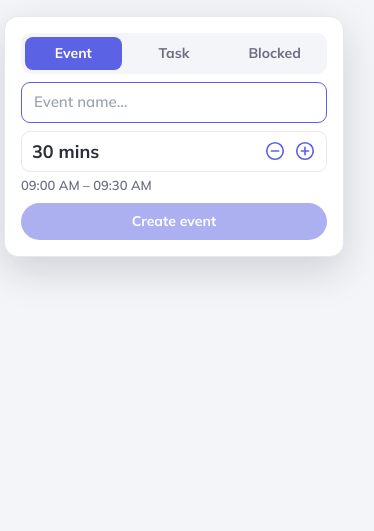
CreatePopover › task mode: existing-task selection hides due/category/after fields
This screenshot has width=374, height=531.
Click the button with test id "mode-task" at (174, 54), box left=126, top=37, right=222, bottom=70
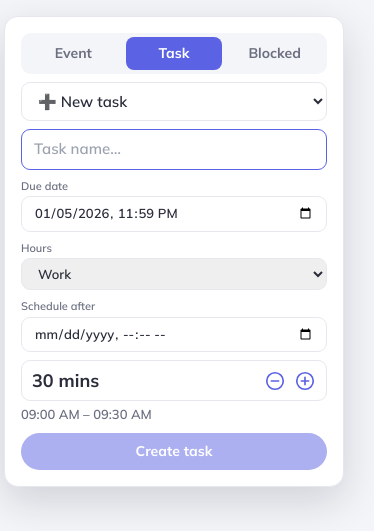
Expected: the field with test id "create-due" is shown, left=21, top=196, right=327, bottom=232
Note: select existing task
Select "Some task" in the dropdown with test id "task-select" at (174, 102), box left=21, top=82, right=327, bottom=121
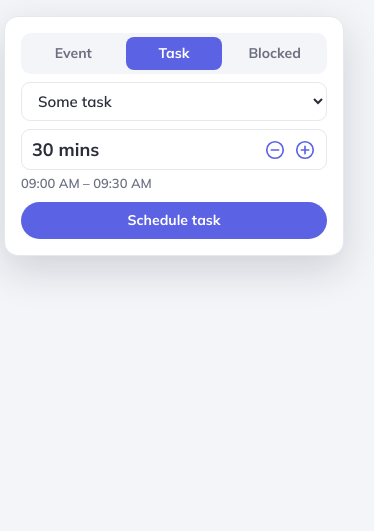
Expected: the field with test id "create-due" is gone
Expected: the dropdown with test id "create-category" is gone
Expected: the field with test id "create-after" is gone
